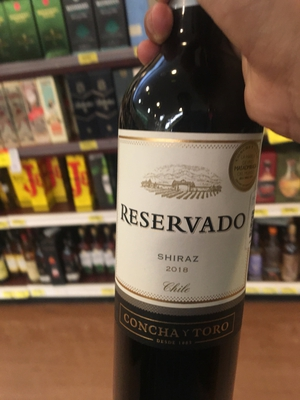reservado shiraz: (106, 9, 256, 400)
